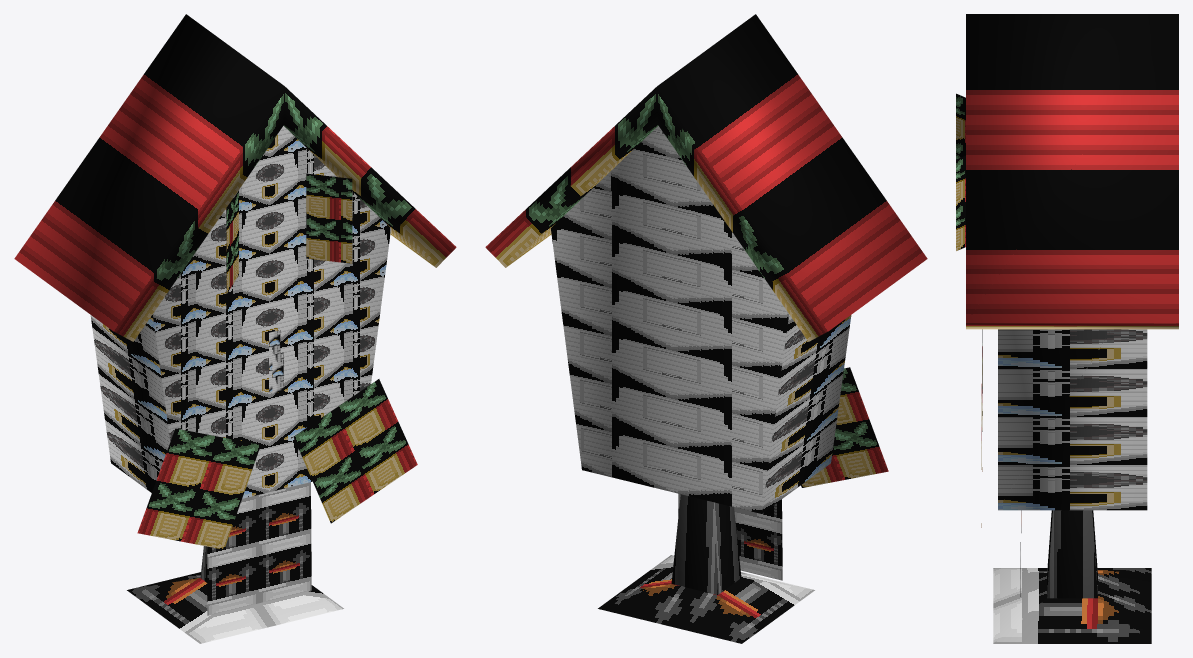
The model's file is 3509IMEL01_26.gltf.
3 renders of one model, left to right at view 1: azimuth 30°, elevation 25°; view 2: azimuth 150°, elevation 25°; view 3: azimuth 270°, elevation 25°, orthographic. The views are drawn at different scales.
Parts seen in each view (by area): view 1: 3509IMEL01_26; view 2: 3509IMEL01_26; view 3: 3509IMEL01_26.
Boxes of the visible parts, left/top/right/bottom form: 3509IMEL01_26: left=14, top=14, right=456, bottom=643; 3509IMEL01_26: left=485, top=14, right=927, bottom=643; 3509IMEL01_26: left=956, top=14, right=1178, bottom=643.
Size of the model in its own units: 0.8 by 1.22 by 0.4168.
Materials: 4 (4 with a texture image).
